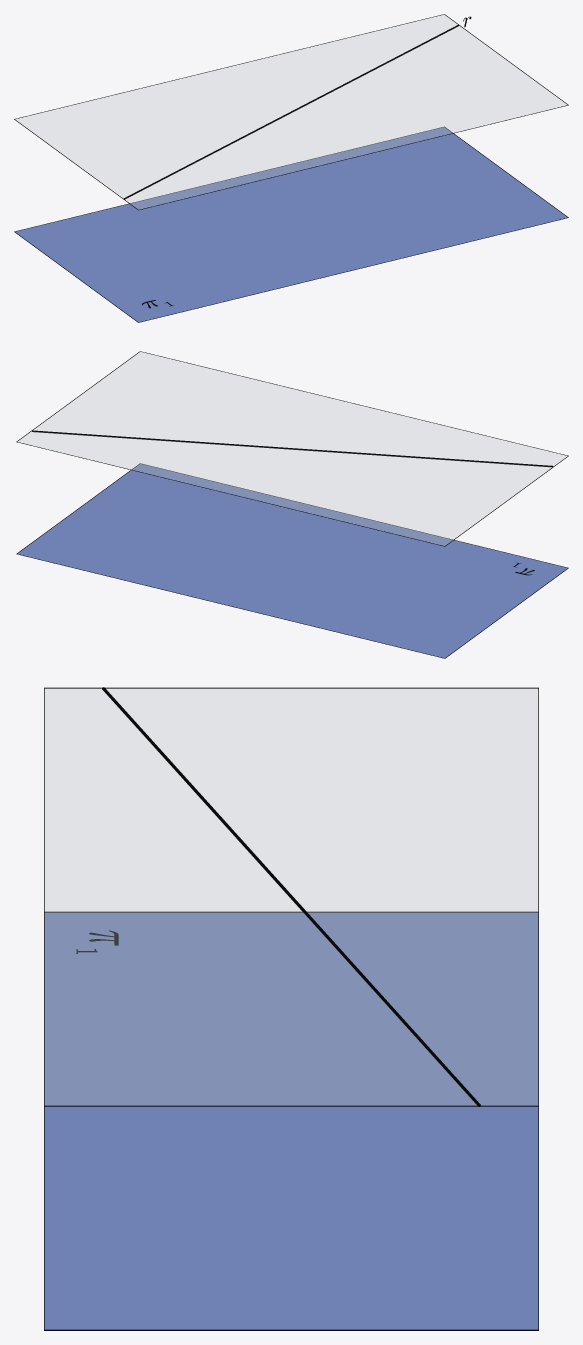
File: example13.glb
The picture shows the model from 3 angles, top to bottom: view 1: azimuth 30°, elevation 25°; view 2: azimuth 150°, elevation 25°; view 3: azimuth 270°, elevation 25°; orthographic projection. The views are drawn at different scales.
Visible parts, largest first — view 1: Plano, Plano gris, Cylinder; view 2: Plano, Plano gris, Cylinder; view 3: Plano, Plano gris, Cylinder.
Boxes of the visible parts, x1,y1,x2,y2 form: Plano: (14,126,568,322); Plano gris: (14,14,568,210); Cylinder: (123,24,459,199); Plano: (16,463,568,658); Plano gris: (16,351,568,546); Cylinder: (32,430,553,467); Plano: (44,911,538,1330); Plano gris: (44,687,538,1106); Cylinder: (102,687,480,1106).
Bounding box in the file's own units: 4.14 × 1.03 × 2.
